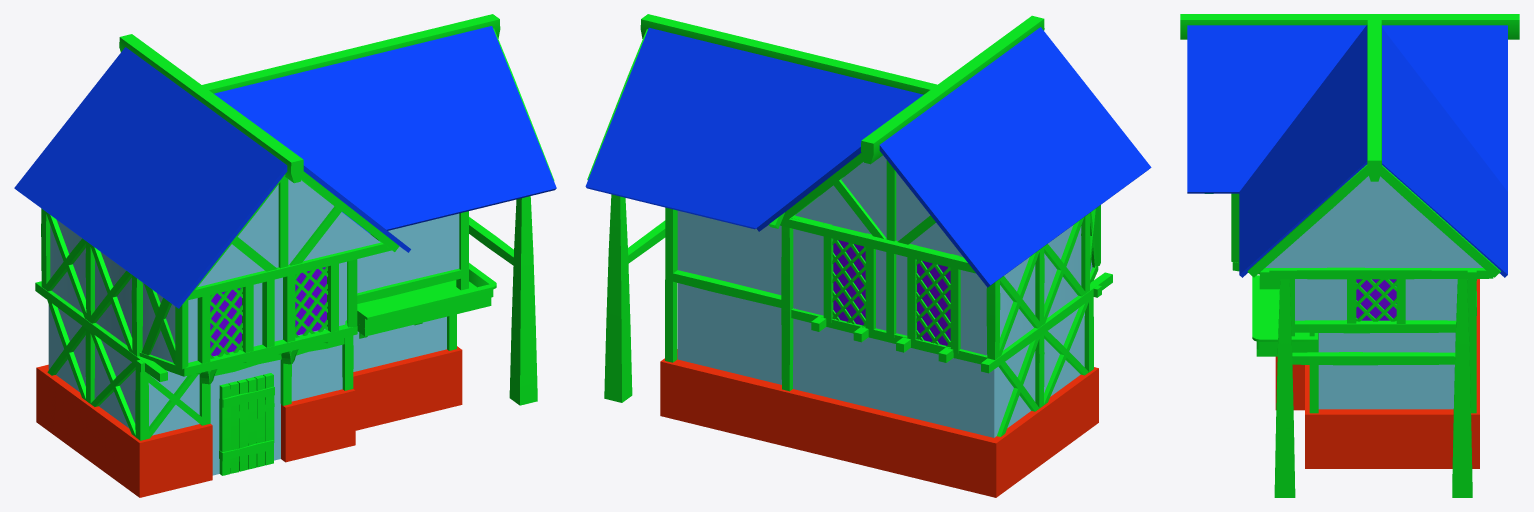
The model's file is MY_house.fbx.
3 renders of one model, left to right at view 1: azimuth 30°, elevation 25°; view 2: azimuth 150°, elevation 25°; view 3: azimuth 270°, elevation 25°, orthographic.
Visible parts, largest first — view 1: Box106; view 2: Box106; view 3: Box106.
Part boxes in pixels (<box>): Box106: <box>14,14,556,497</box>; Box106: <box>585,14,1151,497</box>; Box106: <box>1180,14,1519,497</box>.
Bounding box in the file's own units: 1570 × 1249 × 1125.
